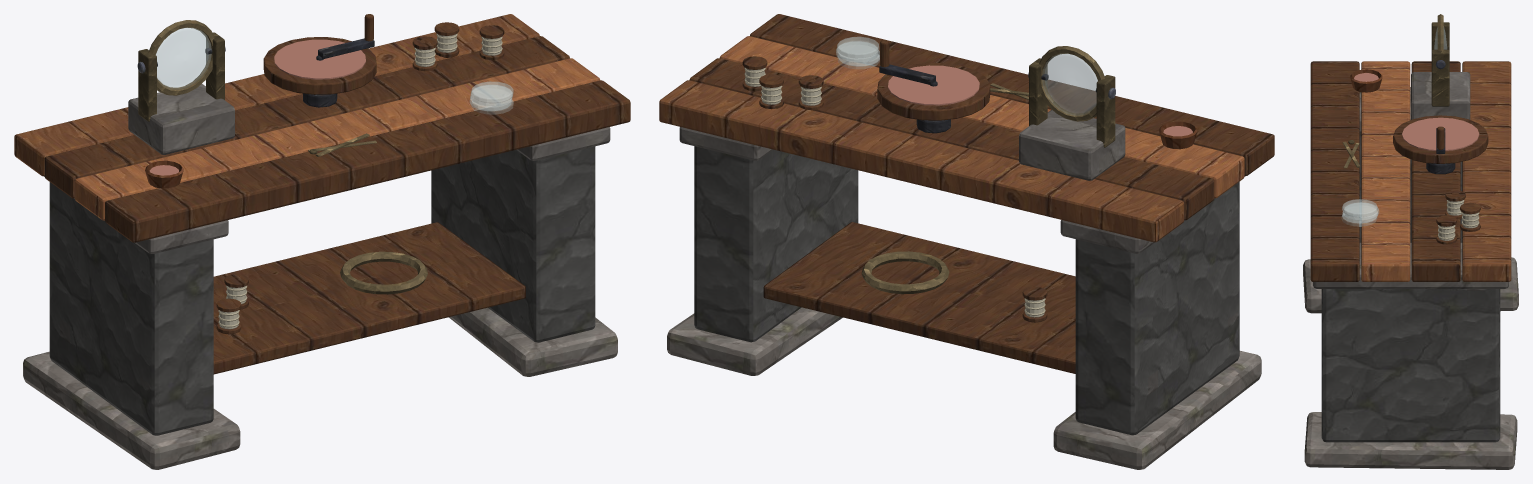
The model's file is rs_lens_workbench.glb.
3 views of the same model, side by side, from view 1: azimuth 30°, elevation 25°; view 2: azimuth 150°, elevation 25°; view 3: azimuth 270°, elevation 25° (orthographic). The views are drawn at different scales.
Visible parts, largest first — view 1: model; view 2: model; view 3: model.
Boxes of the visible parts, x1=… form: model: x1=14, y1=14, x2=630, y2=469; model: x1=659, y1=14, x2=1274, y2=469; model: x1=1303, y1=14, x2=1518, y2=469.
Size of the model in its own units: 1.62 by 1.14 by 0.7257.
Materials: 24 (11 with a texture image).
